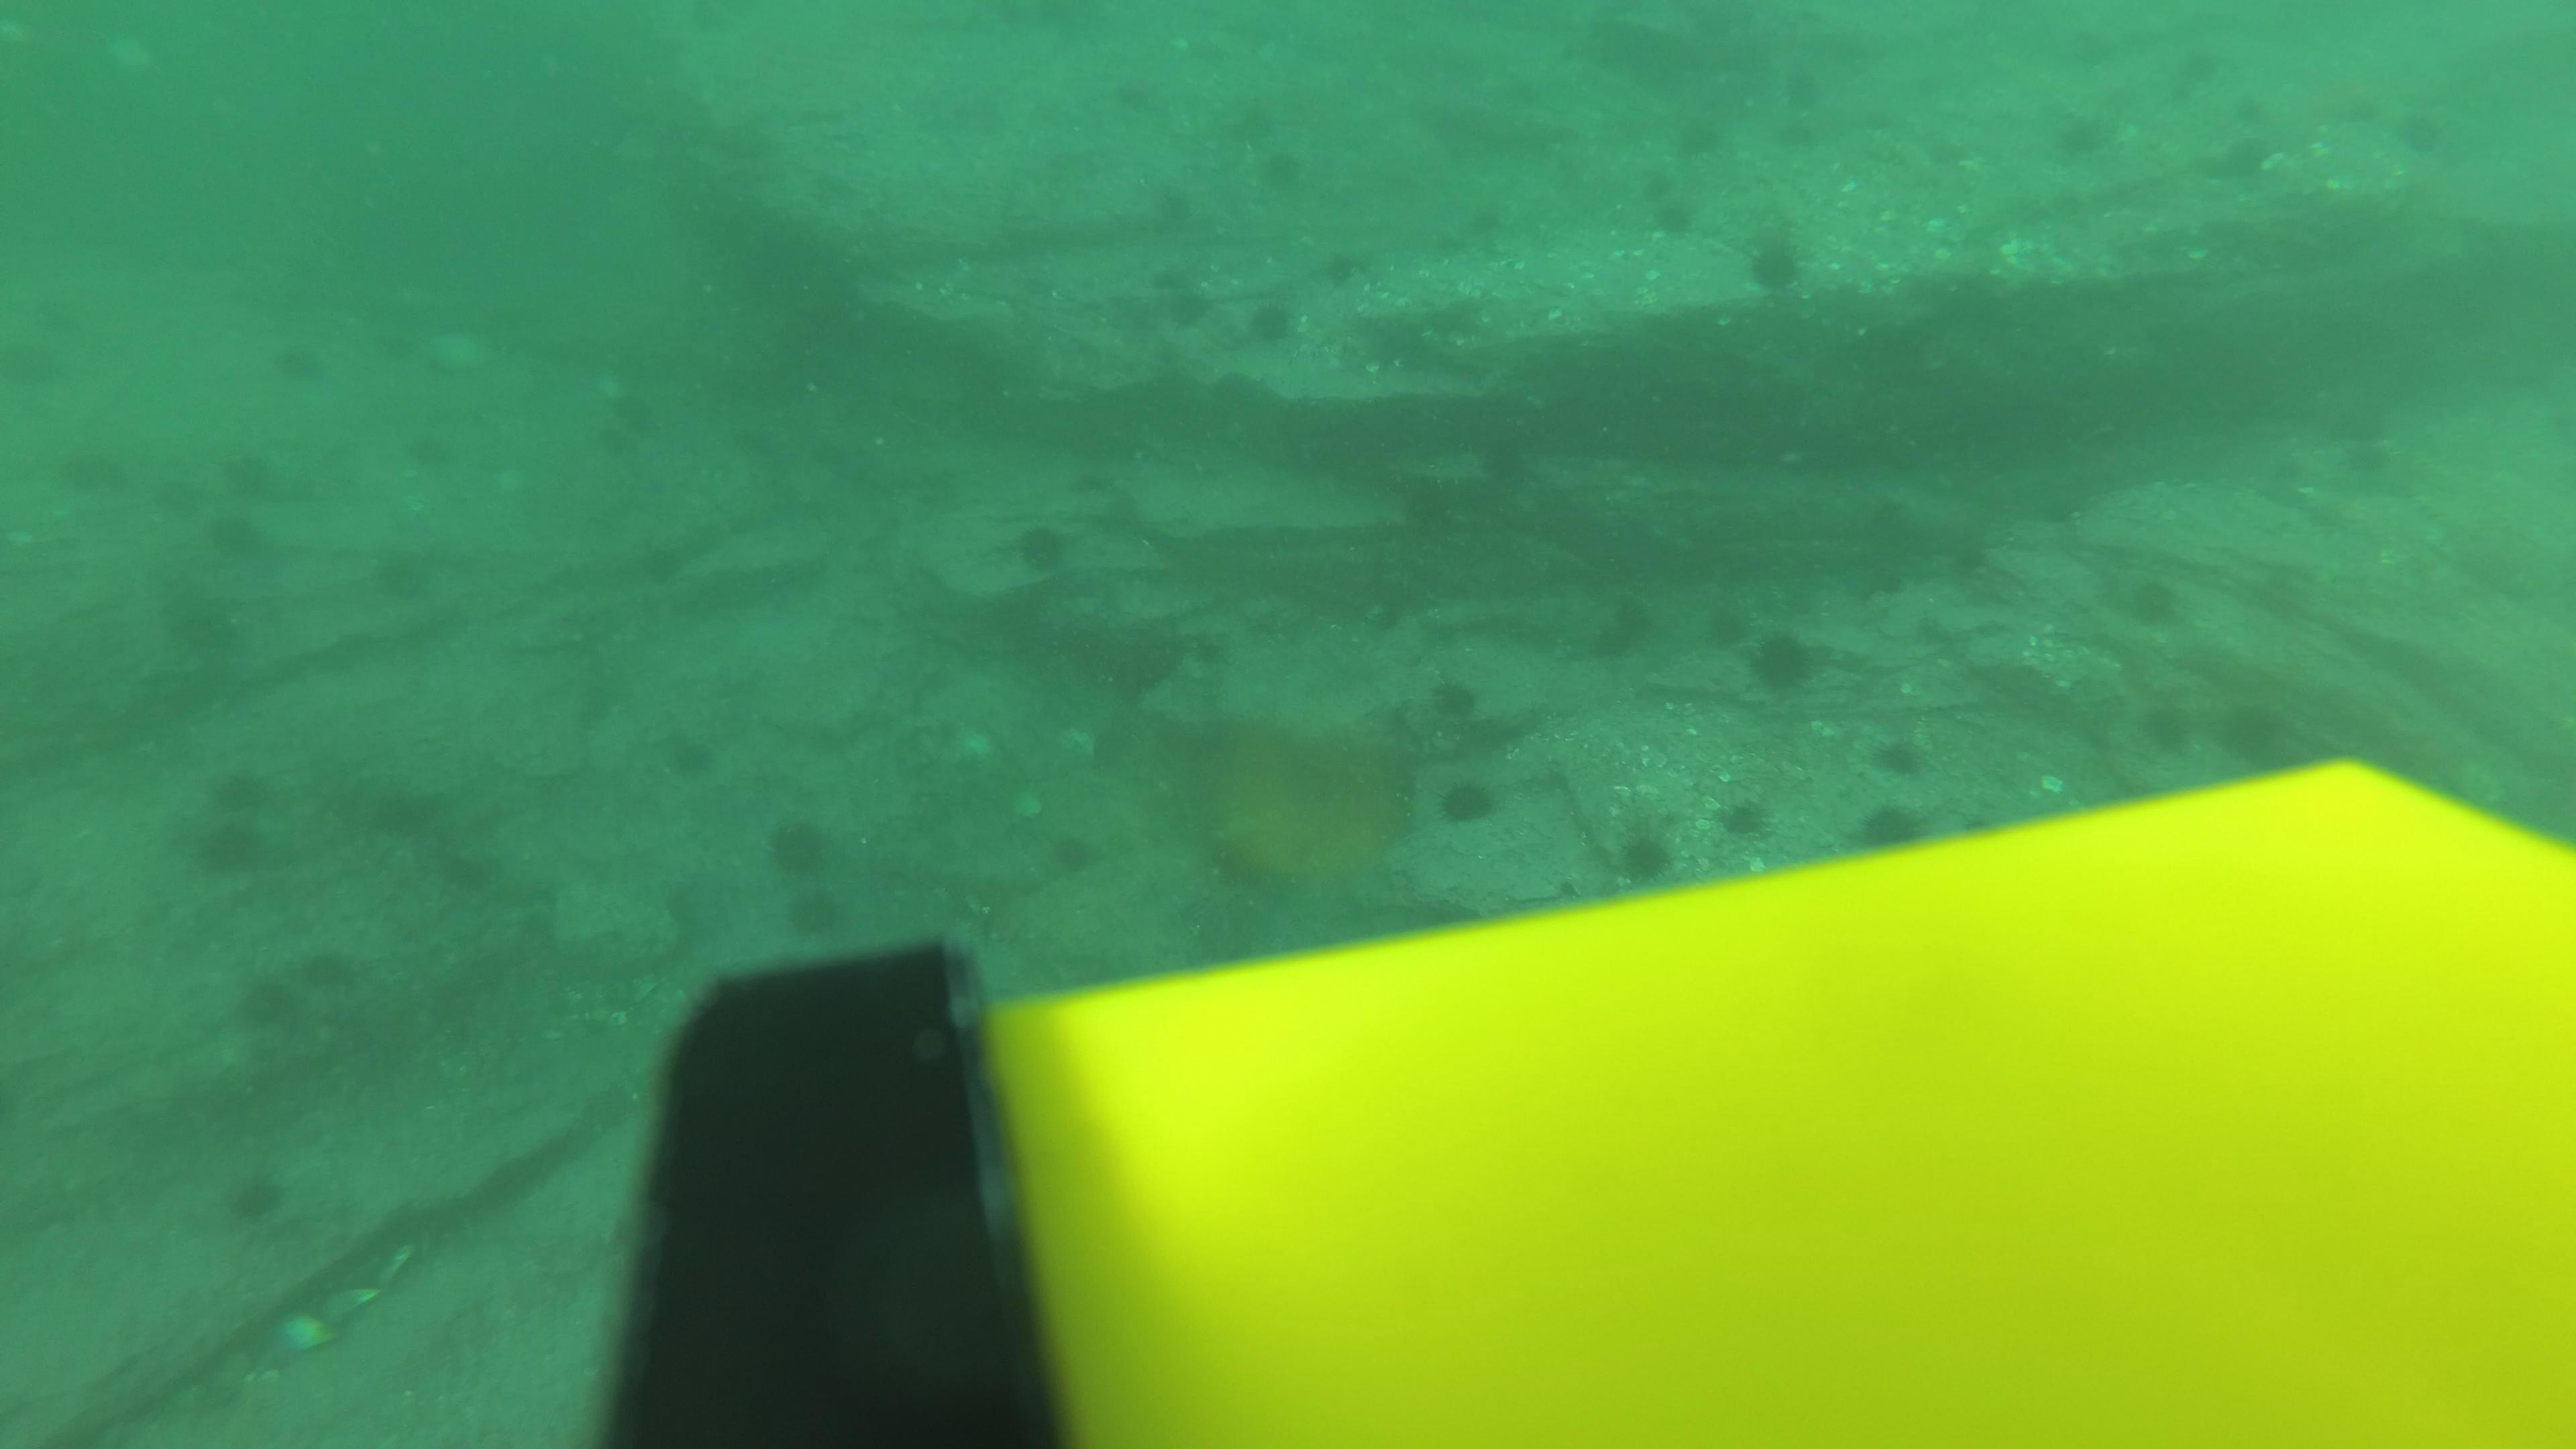echinus: (2208, 692, 2302, 771), (175, 812, 278, 883), (1737, 621, 1828, 699), (287, 927, 368, 1005), (761, 809, 844, 885), (228, 966, 311, 1042), (428, 840, 511, 916), (363, 780, 444, 856), (663, 722, 745, 798), (1583, 589, 1663, 665), (202, 755, 283, 830), (1847, 794, 1936, 860), (1606, 819, 1684, 892), (216, 1162, 295, 1233), (1737, 225, 1812, 299), (2381, 101, 2461, 170), (2327, 69, 2404, 138), (2111, 566, 2190, 633), (2330, 435, 2410, 502), (2323, 396, 2403, 464), (1767, 46, 1845, 113), (2132, 694, 2201, 763), (1007, 515, 1079, 580), (1431, 770, 1504, 832), (778, 883, 851, 941), (1240, 290, 1306, 354), (1421, 671, 1488, 732), (1640, 193, 1709, 248), (2029, 488, 2098, 543), (2047, 115, 2118, 168), (1711, 789, 1776, 846), (1868, 725, 1934, 782), (2058, 25, 2132, 74), (1665, 106, 1734, 159), (1628, 154, 1697, 207), (1867, 556, 1936, 609), (1760, 115, 1831, 166), (1951, 531, 2019, 584), (2167, 42, 2229, 99), (586, 407, 648, 460), (1054, 453, 1116, 506), (138, 478, 200, 531), (2217, 126, 2282, 175), (1474, 441, 1534, 494), (1394, 479, 1454, 533), (1315, 244, 1375, 297), (1253, 145, 1313, 198), (1223, 103, 1283, 156), (1161, 281, 1221, 334), (1200, 354, 1260, 407), (1141, 179, 1201, 232), (807, 156, 867, 209), (609, 382, 669, 435), (1046, 824, 1106, 878), (1453, 193, 1513, 246), (375, 552, 435, 605), (400, 428, 460, 481), (370, 320, 430, 373), (271, 334, 331, 387), (226, 446, 287, 499), (203, 508, 264, 561), (67, 448, 127, 501), (175, 603, 235, 656), (630, 531, 690, 584), (731, 418, 791, 471), (1097, 67, 1157, 119), (1844, 99, 1905, 149), (1916, 127, 1980, 172), (2224, 87, 2282, 133)
